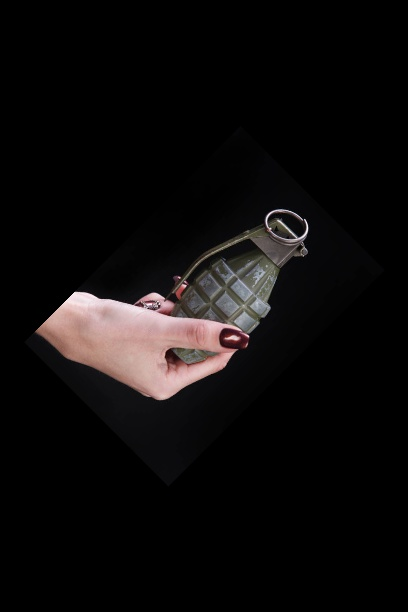e1: (159, 202, 314, 370)
